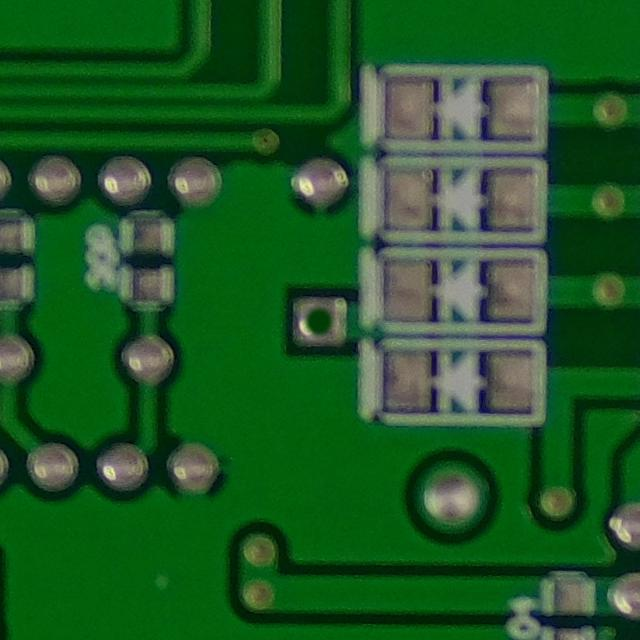missing_hole: (293, 294, 347, 346)
